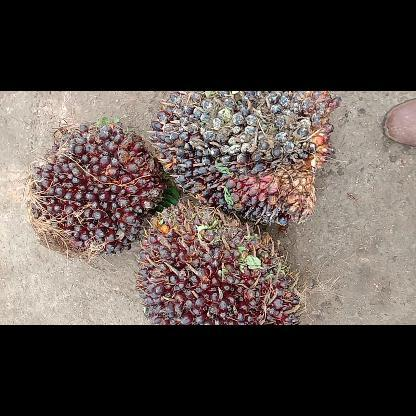Kurang masak: (134, 200, 300, 324), (30, 122, 164, 262)
TBS mentah: (148, 92, 340, 230)
